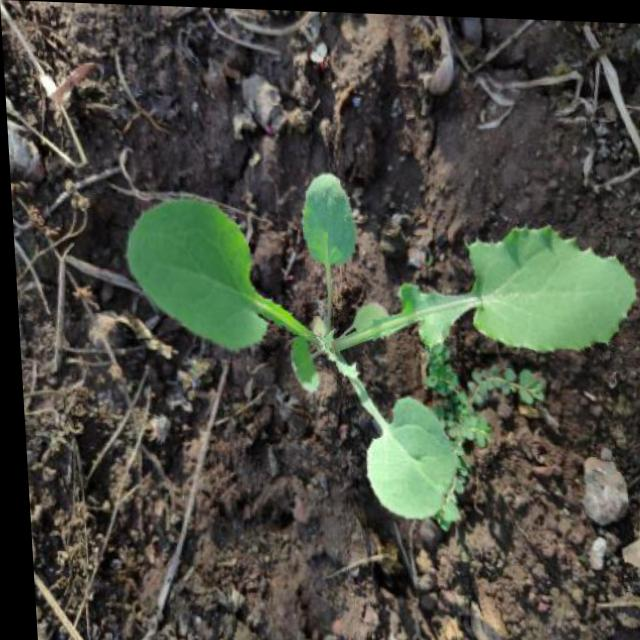weed: (100, 159, 640, 523)
